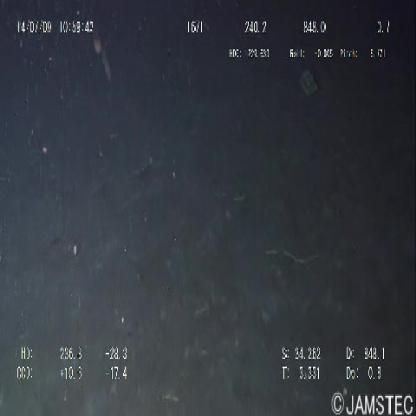Rác: (300, 69, 318, 99)
